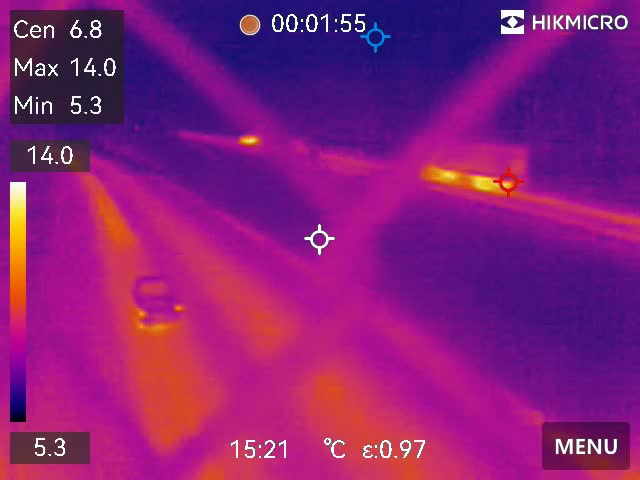heavyTruck: (416, 130, 535, 192)
